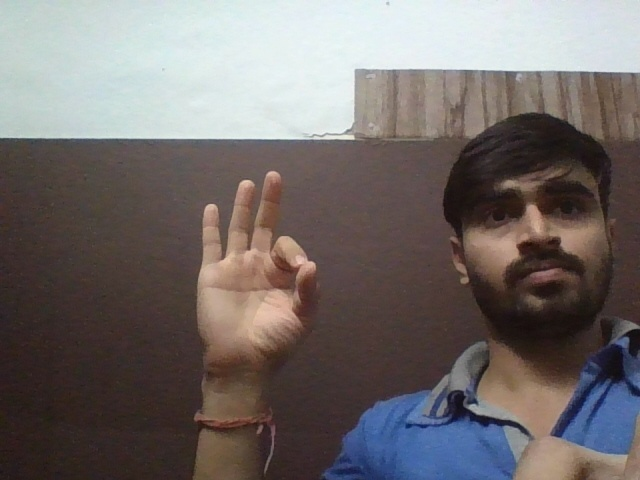F: (178, 166, 332, 369)
